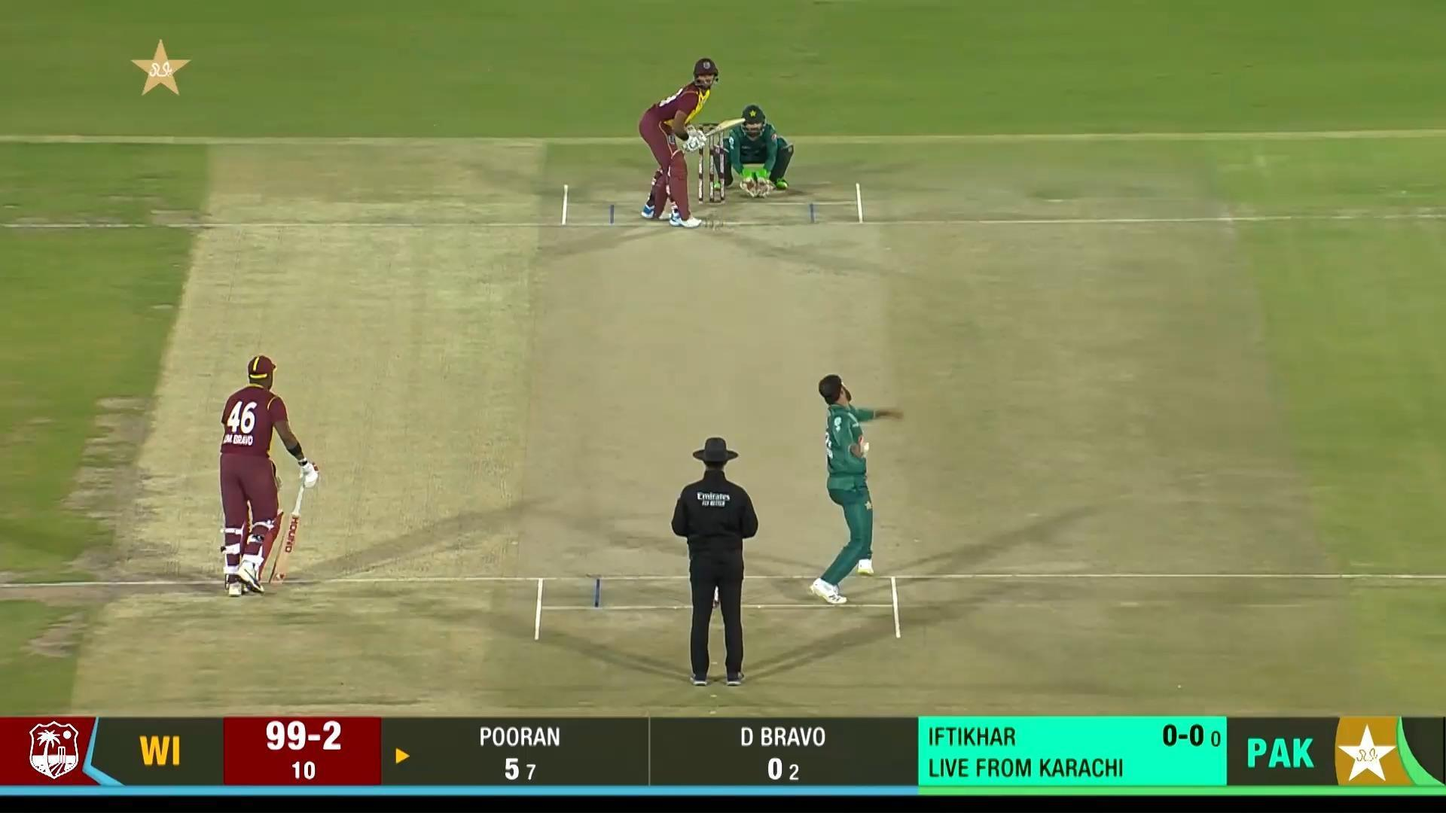BM 1: (638, 57, 745, 228)
BO: (808, 373, 907, 608)
